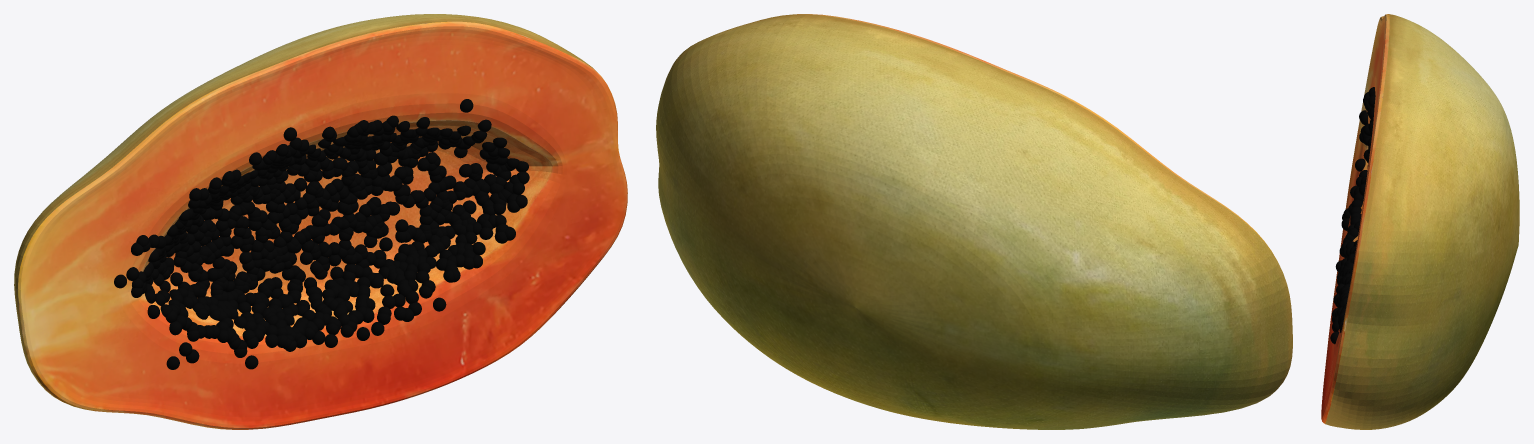
File: half_papaya.optimized.glb
3 views of the same model, side by side, from view 1: azimuth 30°, elevation 25°; view 2: azimuth 150°, elevation 25°; view 3: azimuth 270°, elevation 25° (orthographic). The views are drawn at different scales.
Visible parts, largest first — view 1: papaya_Papaya_0, papaya_seed_0; view 2: papaya_Papaya_0; view 3: papaya_Papaya_0, papaya_seed_0.
Part boxes in pixels (box(x1,y1,x2,y2)): papaya_Papaya_0: box(14, 14, 627, 429); papaya_seed_0: box(114, 99, 529, 369); papaya_Papaya_0: box(656, 14, 1292, 429); papaya_Papaya_0: box(1321, 14, 1519, 429); papaya_seed_0: box(1330, 87, 1375, 344).
Bounding box in the file's own units: 423 × 238 × 130.
Materials: 2 (1 with a texture image).
